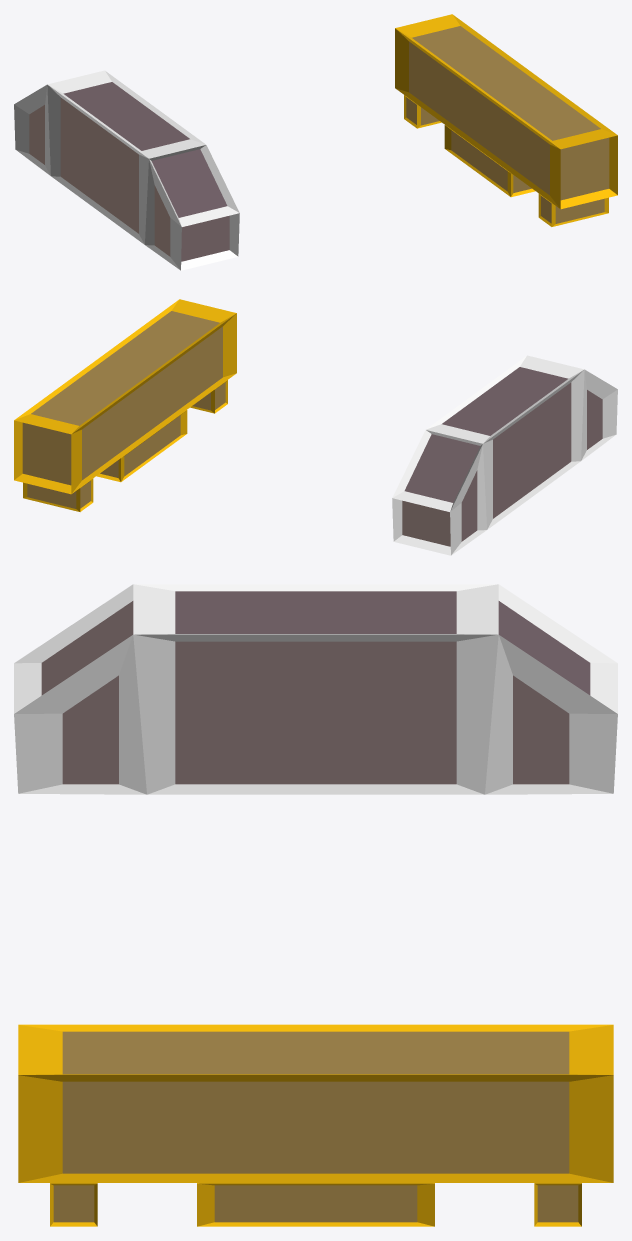
File: NeonElevater.fbx
3 views of the same model, one above another, from view 1: azimuth 30°, elevation 25°; view 2: azimuth 150°, elevation 25°; view 3: azimuth 270°, elevation 25° (orthographic). The views are drawn at different scales.
Visible parts, largest first — view 1: Cube.005, Cube, Cube.002, Cube.003, Cube.004; view 2: Cube.005, Cube, Cube.002, Cube.004, Cube.003; view 3: Cube.005, Cube, Cube.002, Cube.003, Cube.004.
Part boxes in pixels (x1,y1,x2,y2): Cube.005: [14, 70, 239, 270]; Cube: [395, 14, 617, 209]; Cube.002: [444, 125, 535, 197]; Cube.003: [538, 193, 608, 226]; Cube.004: [404, 95, 441, 128]; Cube.005: [392, 355, 617, 555]; Cube: [14, 299, 236, 494]; Cube.002: [96, 410, 187, 482]; Cube.004: [23, 478, 93, 511]; Cube.003: [190, 380, 227, 413]; Cube.005: [14, 584, 617, 794]; Cube: [18, 1024, 613, 1182]; Cube.002: [197, 1183, 434, 1226]; Cube.003: [50, 1183, 97, 1226]; Cube.004: [534, 1183, 581, 1226].
Bounding box in the file's own units: 1073 × 508 × 1613.
